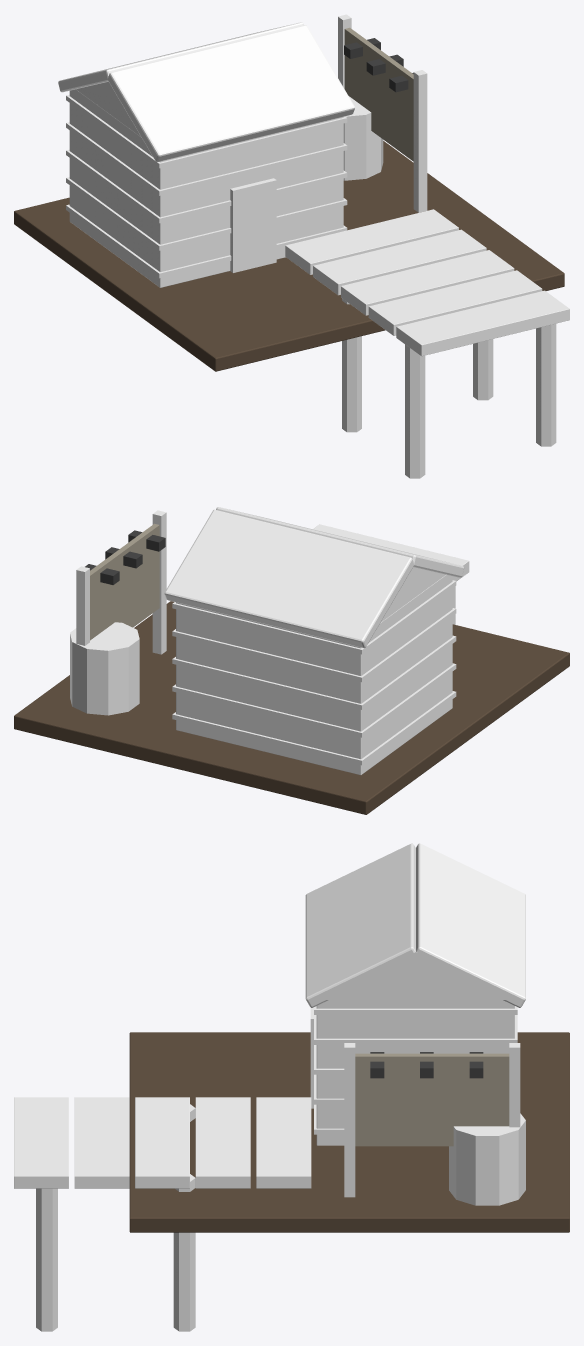
File: balikci.glb
3 renders of one model, top to bottom at view 1: azimuth 30°, elevation 25°; view 2: azimuth 150°, elevation 25°; view 3: azimuth 270°, elevation 25°, orthographic. The views are drawn at different scales.
Parts seen in each view (by area): view 1: Alin; view 2: Alin; view 3: Alin.
Part boxes in pixels (x1,y1,x2,y2): Alin: (14, 14, 569, 478); Alin: (14, 507, 569, 814); Alin: (14, 843, 569, 1331).
Size of the model in its own units: 0.8 by 0.6847 by 1.01.
